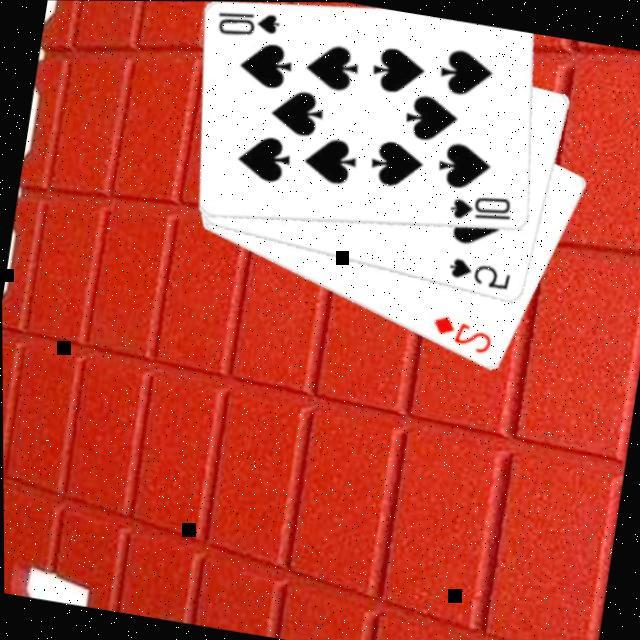10S: (442, 185, 516, 230), (211, 1, 284, 46)
2D: (424, 308, 495, 356)
5S: (442, 253, 514, 293)
